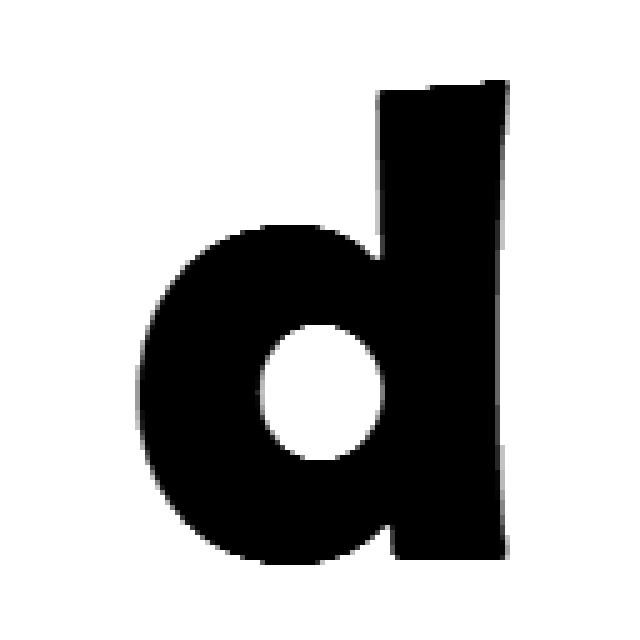D: (130, 75, 510, 570)
